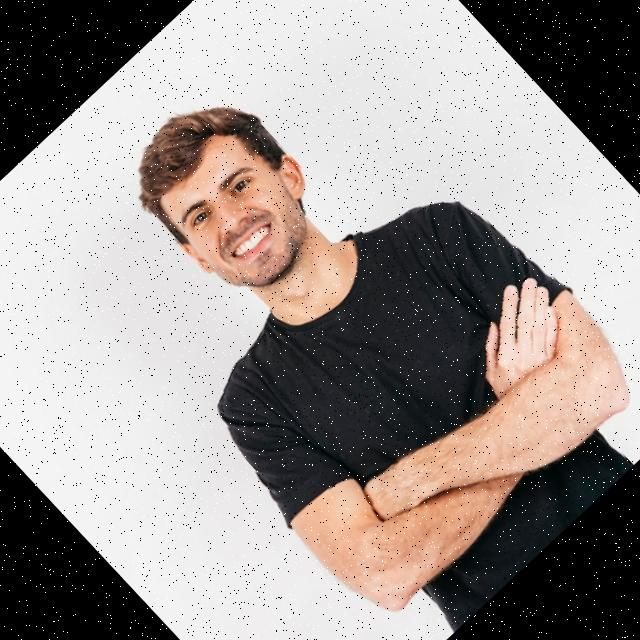Person: (27, 0, 640, 640)
